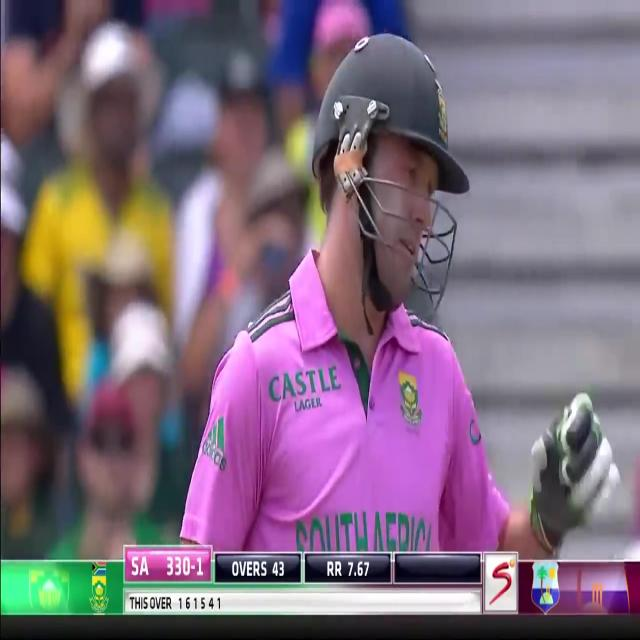Ball: (191, 33, 493, 541)
